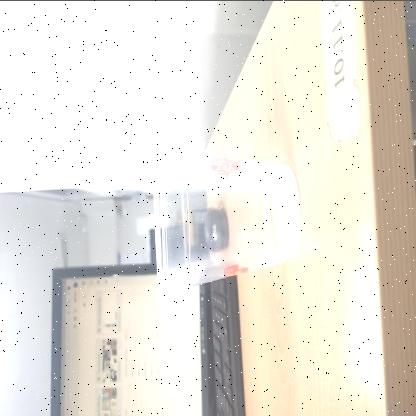Others: (152, 134, 301, 308)
